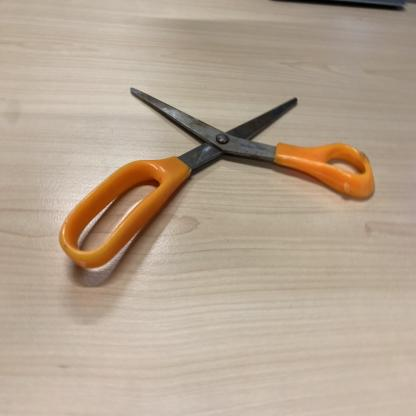scissors: (58, 84, 376, 278)
